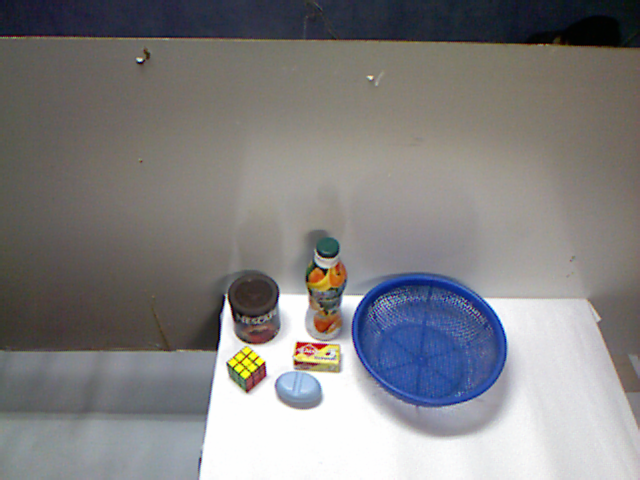aceite: (263, 231, 317, 341)
borrador: (333, 343, 376, 425)
cera: (332, 228, 393, 344)
estuche: (213, 323, 275, 415)
jugoind: (292, 333, 333, 400)
platoperro: (381, 334, 504, 443)
